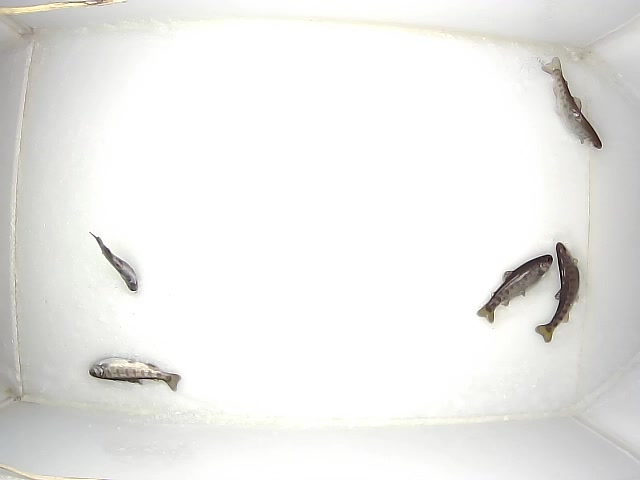fish: (541, 57, 603, 150), (476, 254, 553, 324), (535, 242, 580, 343), (89, 357, 181, 391), (89, 231, 139, 291)
